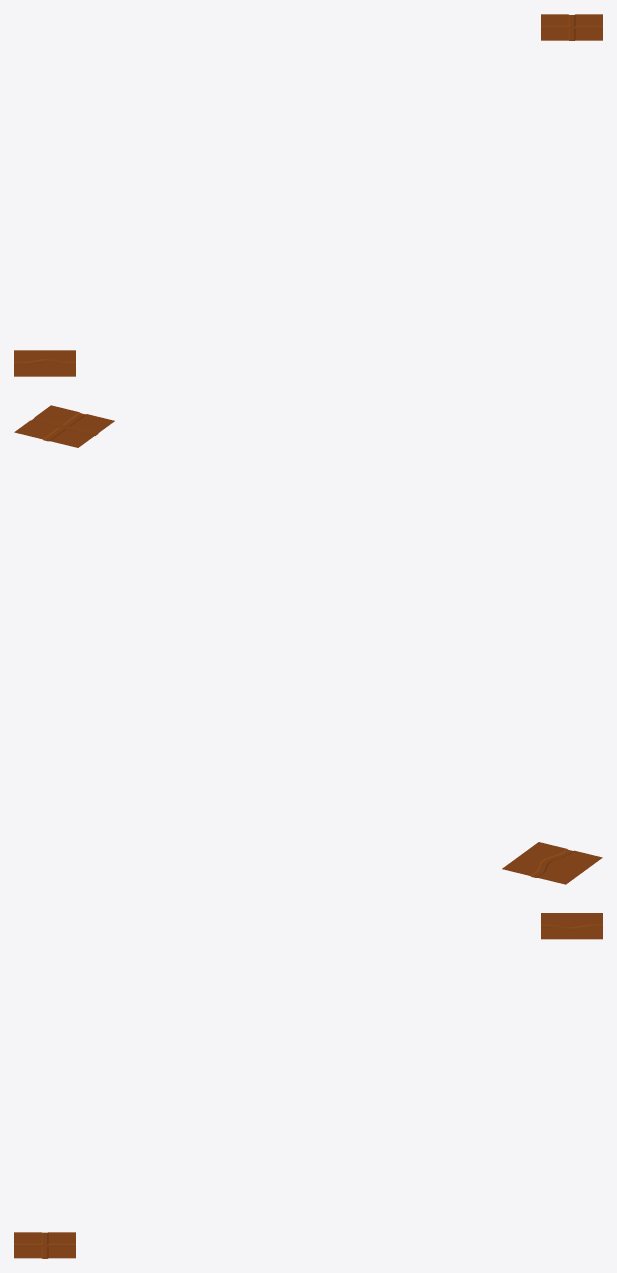
File: Terrain_Part_Plane_9.glb
3 renders of one model, top to bottom at view 1: azimuth 90°, elevation 25°; view 2: azimuth 150°, elevation 25°; view 3: azimuth 270°, elevation 25°, orthographic. The views are drawn at different scales.
Parts seen in each view (by area): view 1: Terrain_Part_Plane_9.002; view 2: Terrain_Part_Plane_9.002; view 3: Terrain_Part_Plane_9.002.
Boxes of the visible parts, bbox=[...] form: Terrain_Part_Plane_9.002: bbox=[14, 14, 602, 376]; Terrain_Part_Plane_9.002: bbox=[14, 405, 602, 884]; Terrain_Part_Plane_9.002: bbox=[14, 913, 602, 1258].
Bounding box in the file's own units: 270 × 3.2 × 190.
